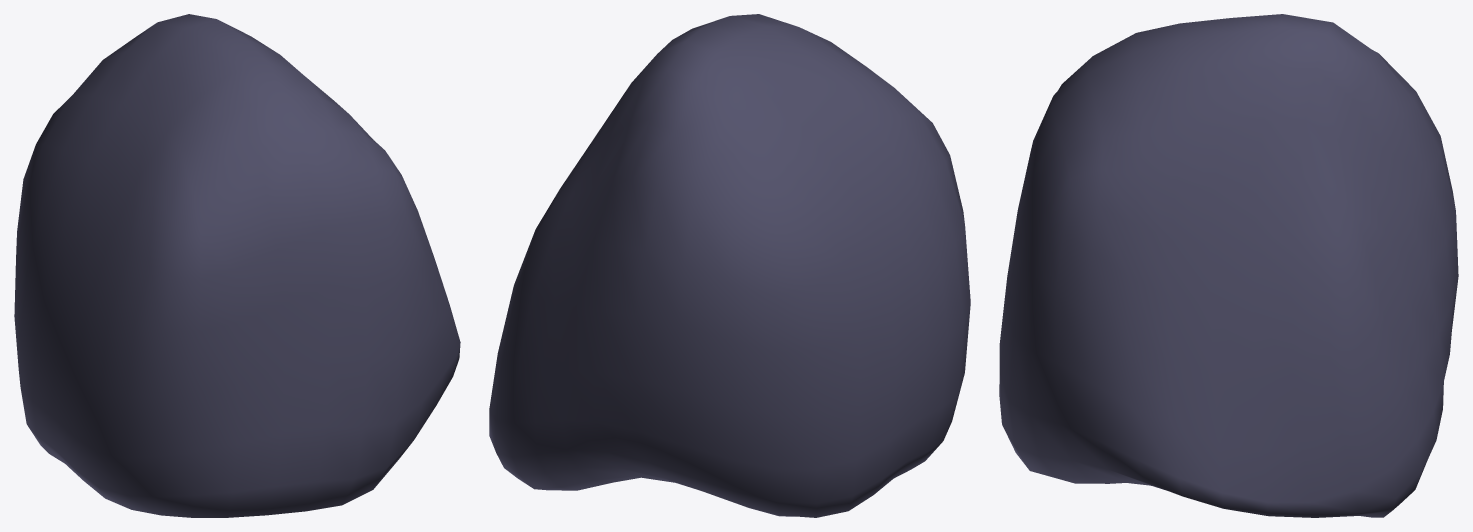
The model's file is Rock_A_01.fbx.
3 views of the same model, side by side, from view 1: azimuth 30°, elevation 25°; view 2: azimuth 150°, elevation 25°; view 3: azimuth 270°, elevation 25° (orthographic). The views are drawn at different scales.
Parts seen in each view (by area): view 1: Rock_A_01_LOD0; view 2: Rock_A_01_LOD0; view 3: Rock_A_01_LOD0.
Boxes of the visible parts, box(x1,y1,x2,y2) form: Rock_A_01_LOD0: box(14, 14, 460, 517); Rock_A_01_LOD0: box(489, 14, 970, 517); Rock_A_01_LOD0: box(999, 14, 1458, 517).
Size of what is drawn, in the model's own units: 240 by 245 by 232.
